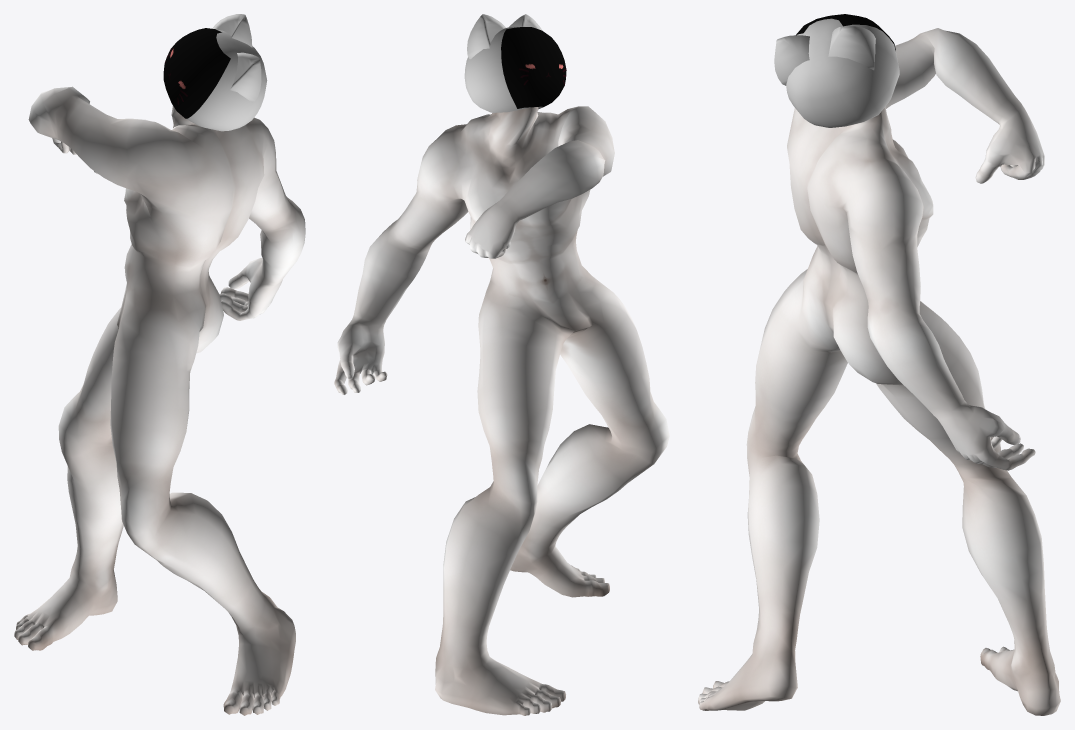
The picture shows the model from 3 angles, left to right: view 1: azimuth 30°, elevation 25°; view 2: azimuth 150°, elevation 25°; view 3: azimuth 270°, elevation 25°; orthographic projection. The views are drawn at different scales.
Visible parts, largest first — view 1: Muscle_Body, Cat_Head, ______?001; view 2: Muscle_Body, ______?001, Cat_Head; view 3: Muscle_Body, Cat_Head, ______?001.
Part boxes in pixels (x1=…): Muscle_Body: x1=14, y1=86, x2=305, y2=715; Cat_Head: x1=186, y1=14, x2=267, y2=131; ______?001: x1=163, y1=28, x2=230, y2=118; Muscle_Body: x1=334, y1=106, x2=669, y2=715; ______?001: x1=501, y1=27, x2=566, y2=108; Cat_Head: x1=464, y1=14, x2=542, y2=112; Muscle_Body: x1=698, y1=28, x2=1060, y2=715; Cat_Head: x1=774, y1=18, x2=899, y2=127; ______?001: x1=796, y1=14, x2=895, y2=50.
Size of the model in its own units: 11.57 by 27.81 by 12.76.
